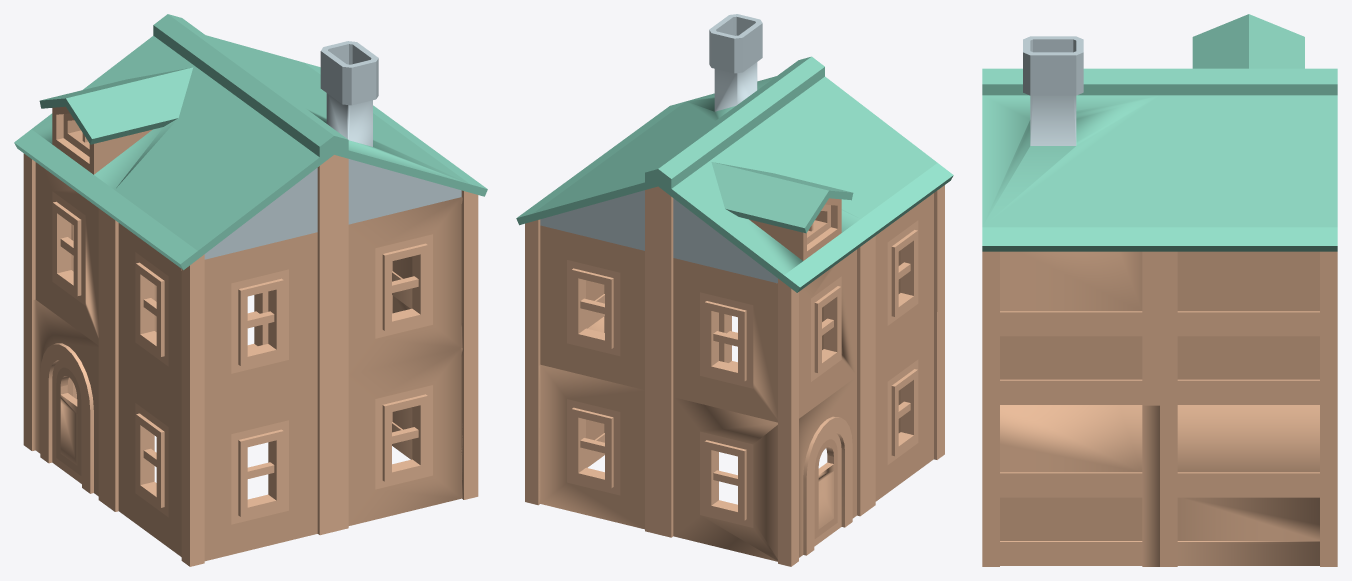
The model's file is BasicHouse9.fbx.
3 views of the same model, side by side, from view 1: azimuth 30°, elevation 25°; view 2: azimuth 150°, elevation 25°; view 3: azimuth 270°, elevation 25° (orthographic). The views are drawn at different scales.
Parts seen in each view (by area): view 1: roofWindow.003; view 2: roofWindow.003; view 3: roofWindow.003.
Part boxes in pixels (left/top/right/bottom): roofWindow.003: left=14, top=14, right=487, bottom=566; roofWindow.003: left=516, top=14, right=953, bottom=566; roofWindow.003: left=982, top=14, right=1337, bottom=566.
Bounding box in the file's own units: 213 × 293 × 200.
